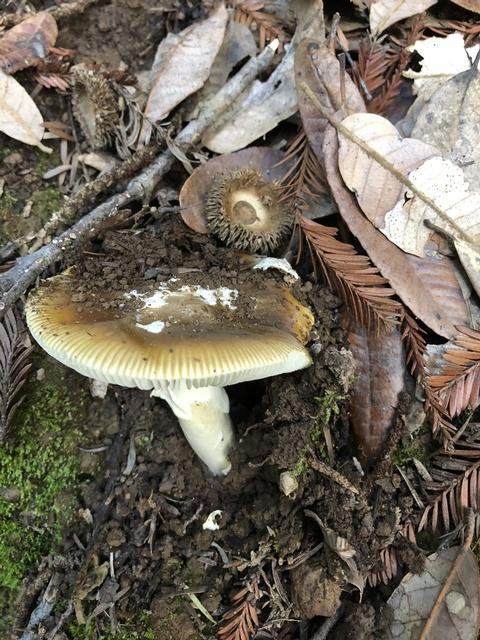edible_mushroom: (23, 250, 315, 477), (335, 110, 479, 297), (177, 145, 304, 254)
